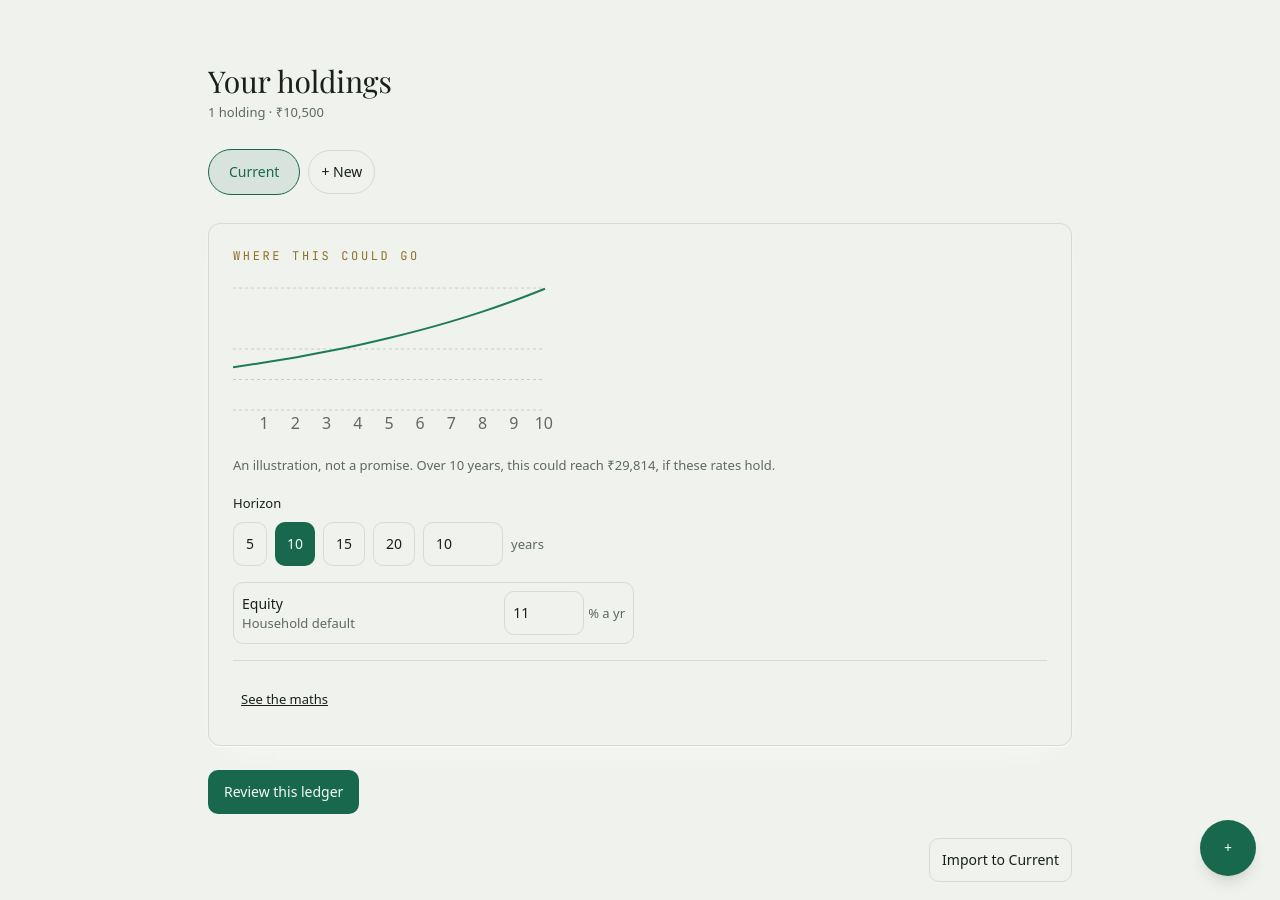
Test: Portfolio — Apply on an AI suggestion creates a new, empty ledger (M3c) › on a failed create, shows a plain message and puts the suggestion back rather than dropping it
Click the button "Review this ledger".
click(284, 792)  # box [208,770,359,814]
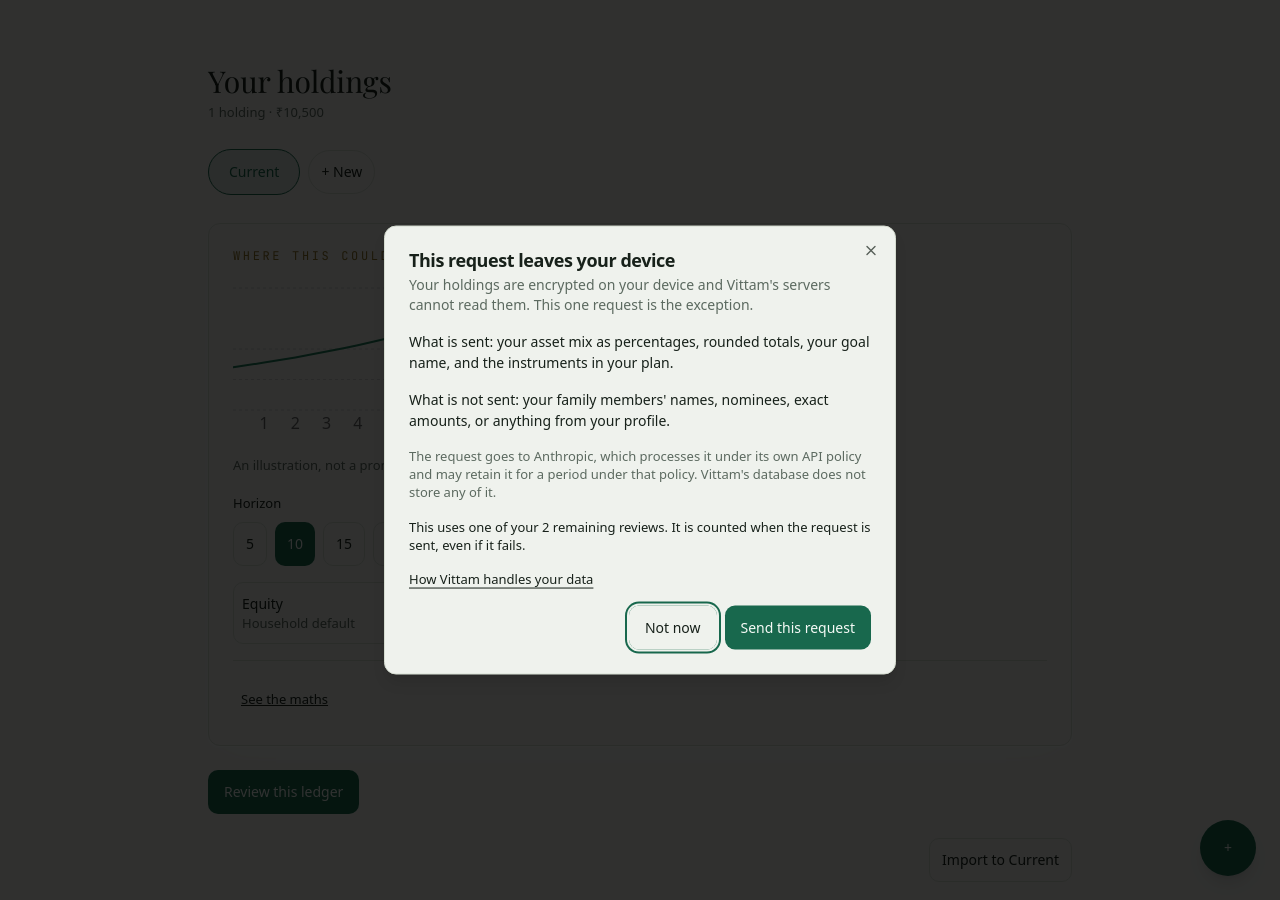
Click the button "Send this request".
click(798, 628)  # box [724,606,871,650]
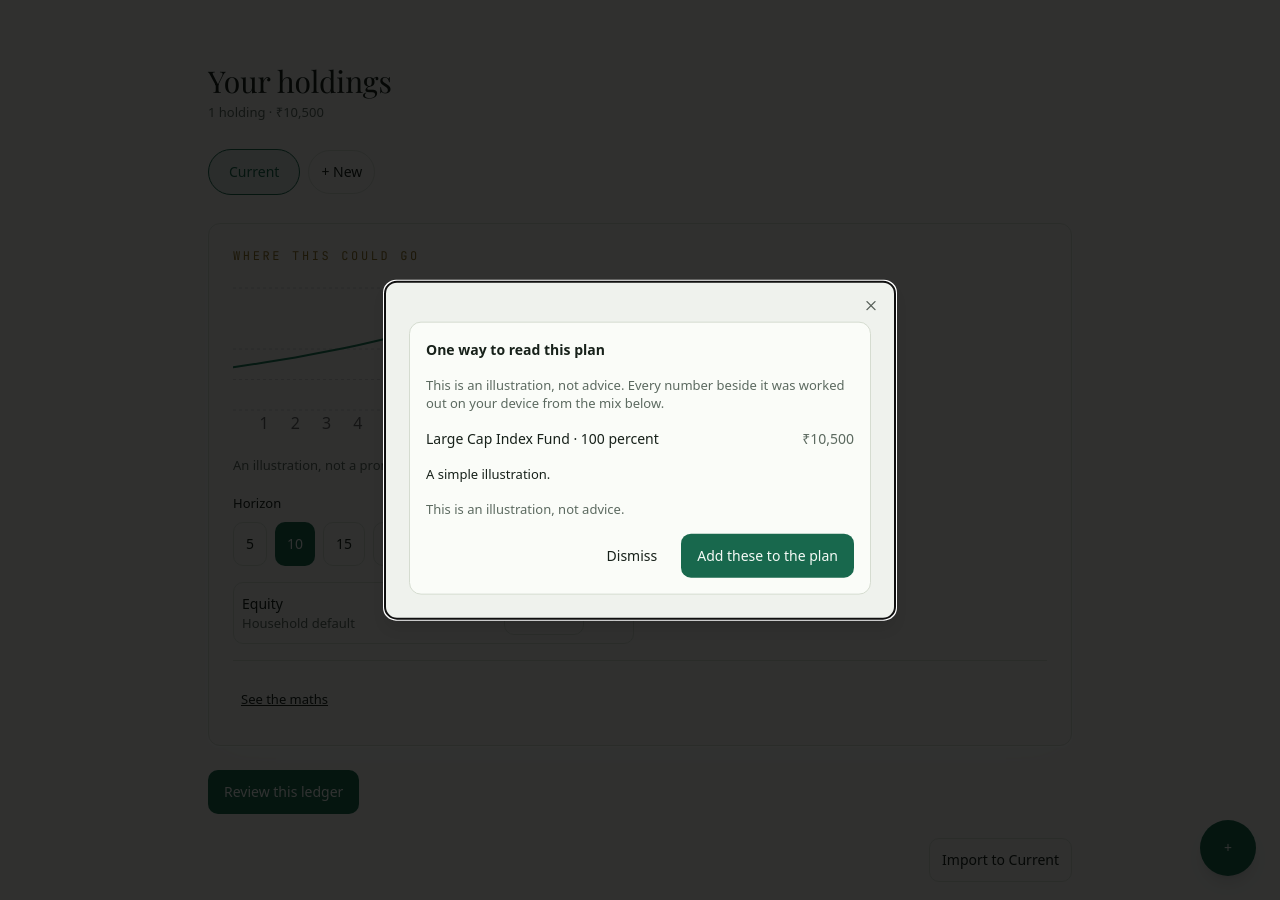
Now the list with test id "ai-suggestion-allocations" is shown, box [426,428,854,449]
Click the button "Add these to the plan".
click(768, 555)  # box [681,533,854,577]
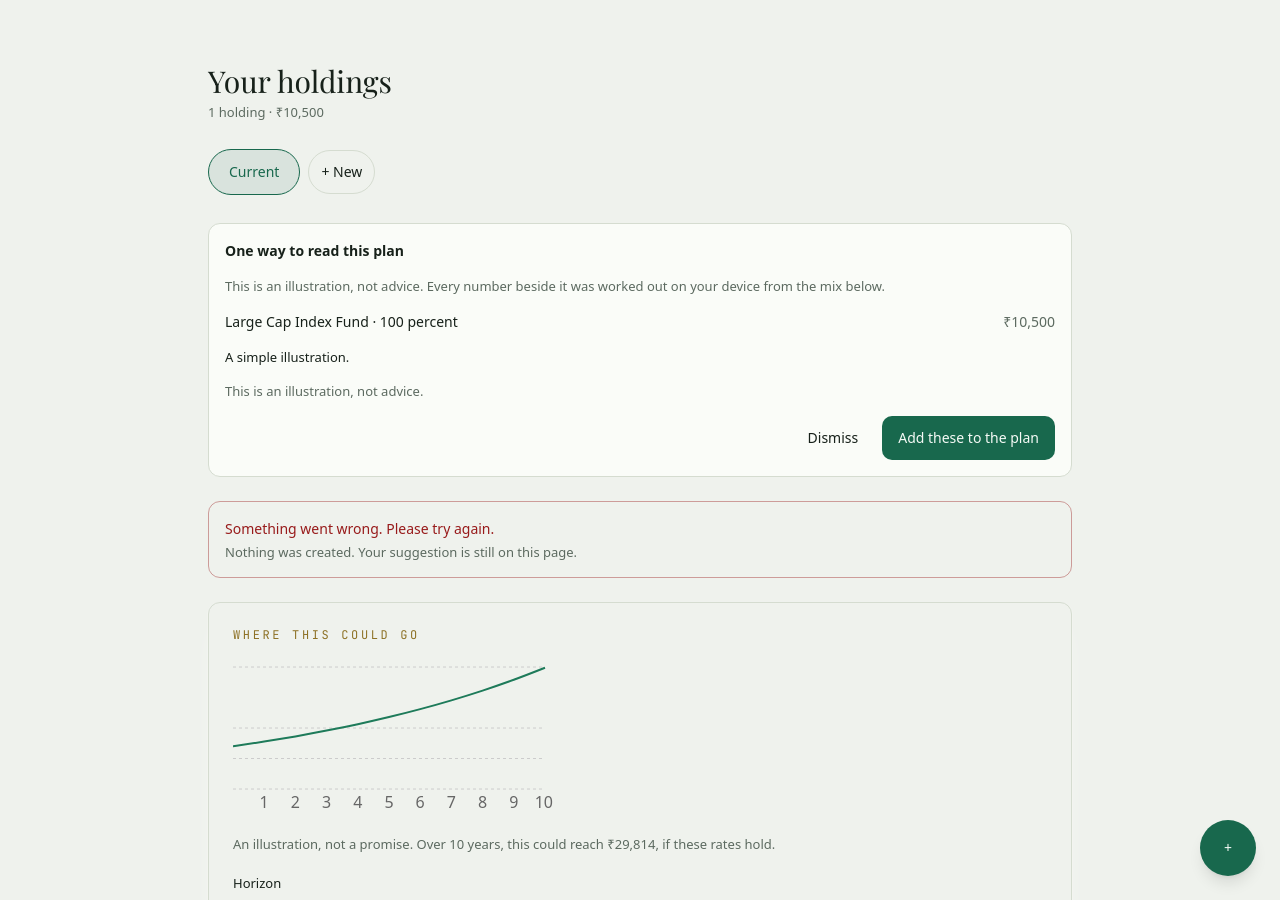
Now the list with test id "ai-suggestion-allocations" is shown, box [225,311,1055,332]
Now the message with test id "apply-suggestion-notice" shows "Something went wrong. Please try again.", box [225,519,494,538]
